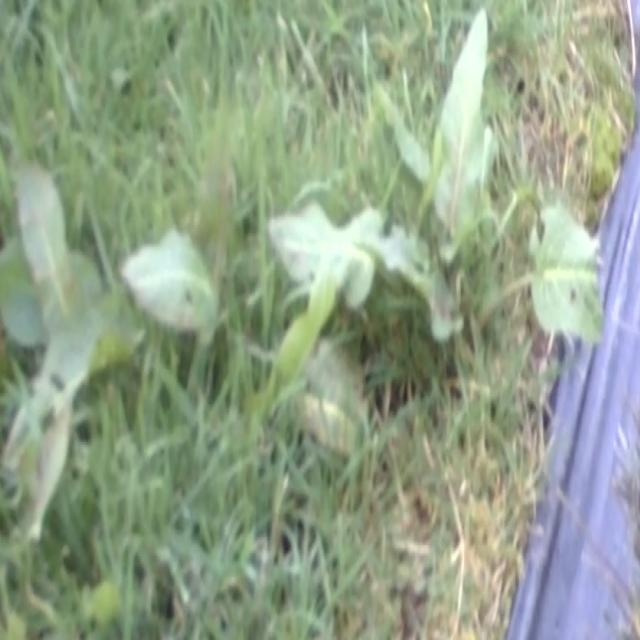organic waste: (257, 29, 623, 457), (0, 103, 224, 447)
